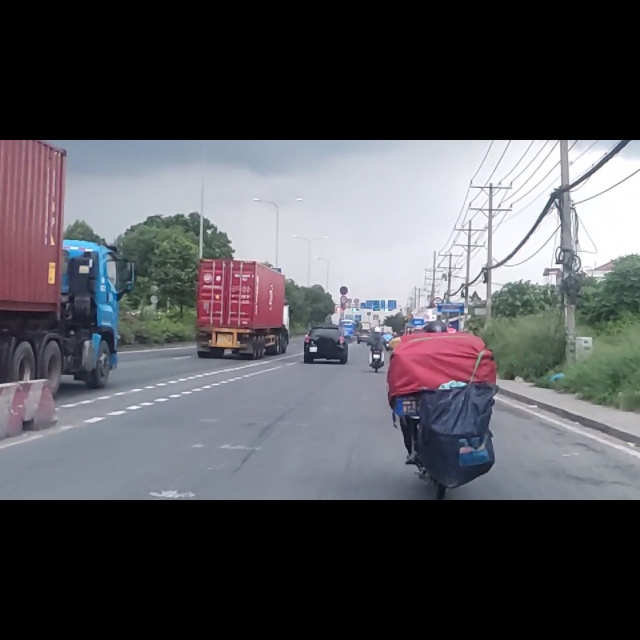bien_chi_dan: (340, 259, 349, 276)
